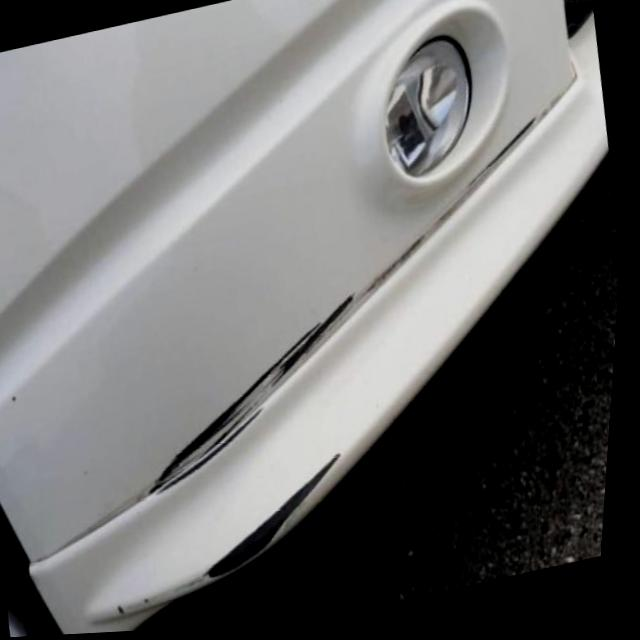Scratch: (136, 81, 571, 500), (201, 447, 342, 579), (112, 601, 124, 615), (139, 594, 150, 603), (9, 392, 16, 401)
